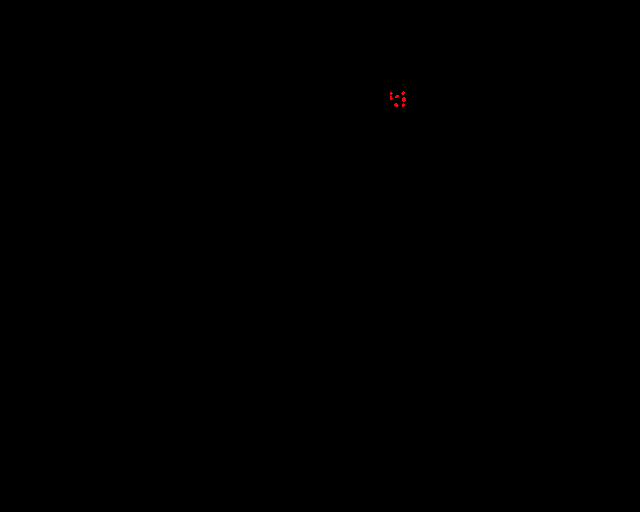Target: (402, 97, 406, 102), (394, 103, 399, 107), (401, 91, 405, 95), (395, 95, 399, 98), (390, 96, 393, 100), (402, 103, 405, 107), (390, 92, 393, 95)
